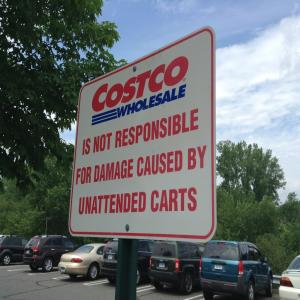Vehicle-registration-plate: (216, 264, 223, 271), (160, 263, 166, 268), (109, 257, 114, 260)
